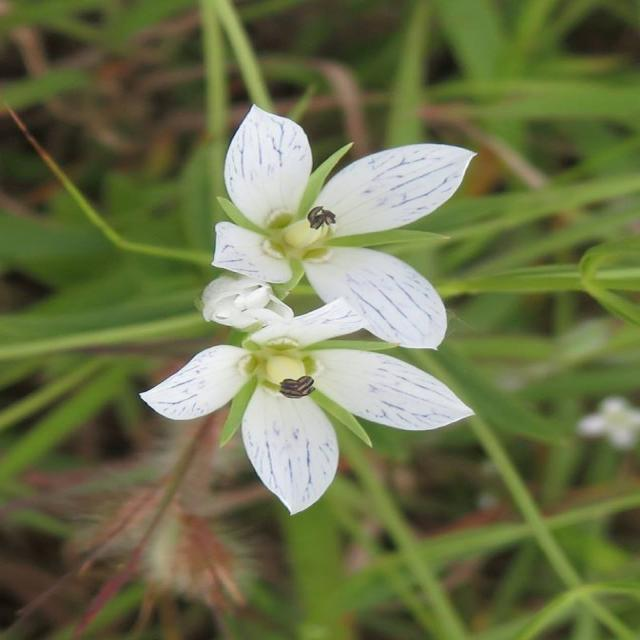Chirata: (154, 102, 620, 623)
